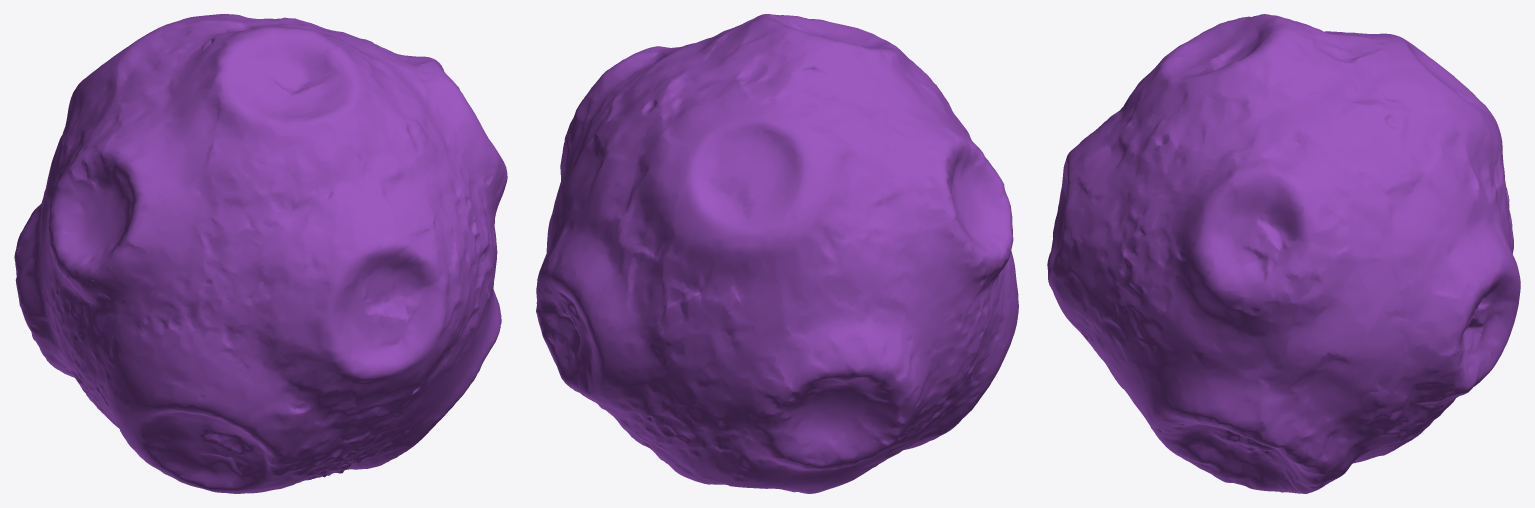
The model's file is tst_asteroir.fbx.
The picture shows the model from 3 angles, left to right: view 1: azimuth 30°, elevation 25°; view 2: azimuth 150°, elevation 25°; view 3: azimuth 270°, elevation 25°; orthographic projection. The views are drawn at different scales.
Parts seen in each view (by area): view 1: Mesh_Asteroid_Small3; view 2: Mesh_Asteroid_Small3; view 3: Mesh_Asteroid_Small3.
Part boxes in pixels (bbox=[...]): Mesh_Asteroid_Small3: bbox=[14, 14, 507, 493]; Mesh_Asteroid_Small3: bbox=[536, 14, 1018, 493]; Mesh_Asteroid_Small3: bbox=[1047, 14, 1520, 493].
Bounding box in the file's own units: 150 × 149 × 151.
